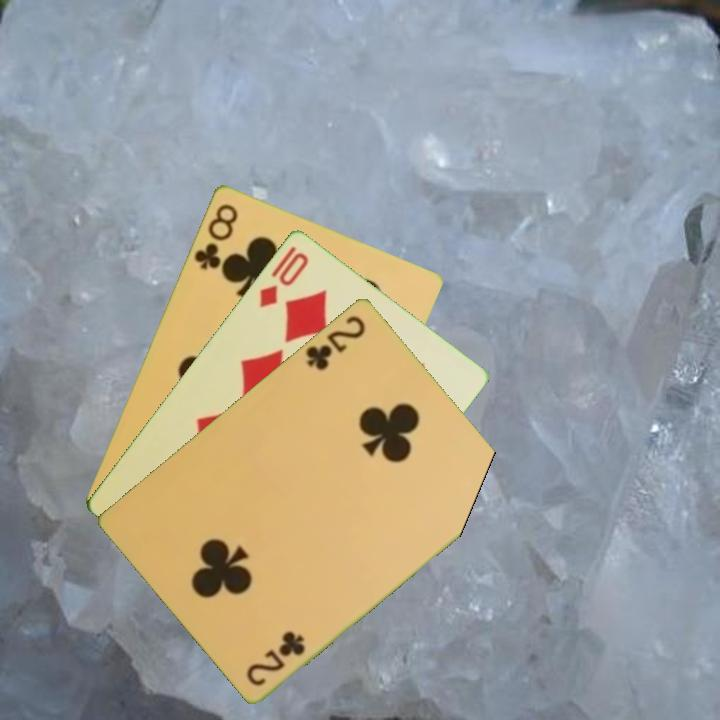10d: (255, 242, 312, 311)
2c: (302, 311, 369, 373), (243, 627, 309, 689)
8c: (190, 199, 241, 272)
